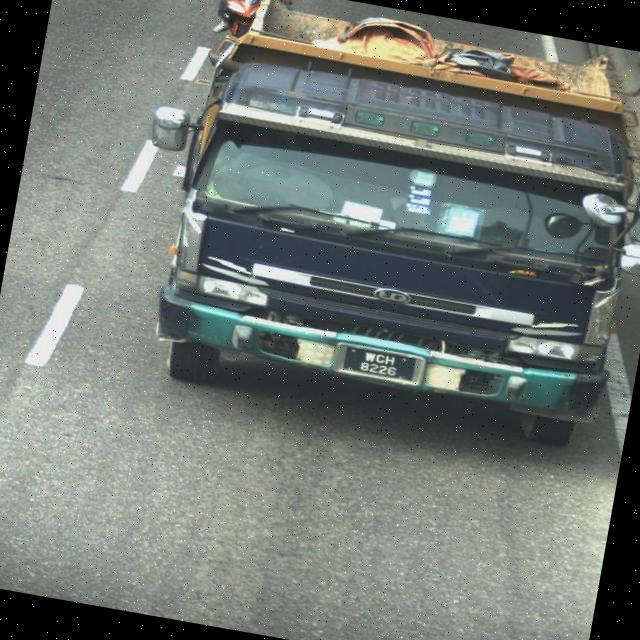License_Plate: (332, 337, 428, 393)
lorry: (99, 1, 640, 479)
